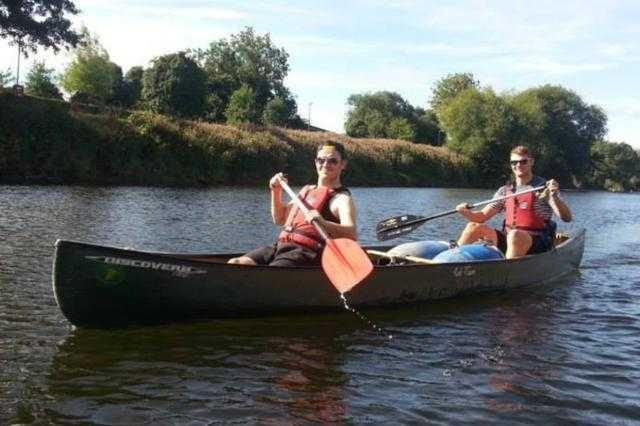kayak: (52, 234, 589, 316)
